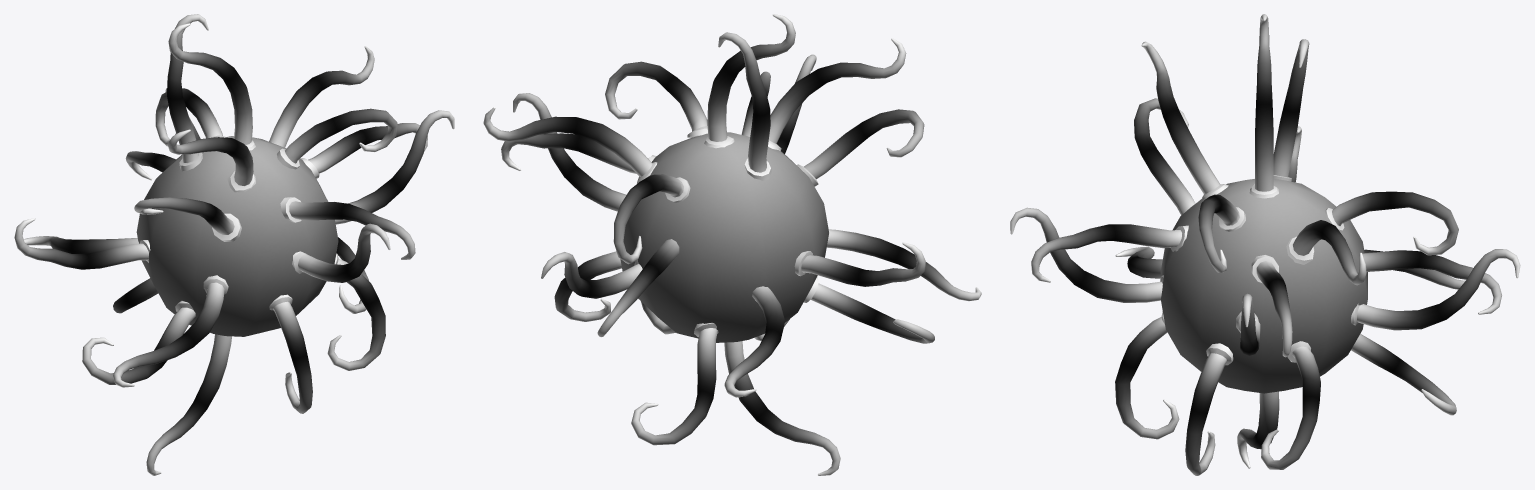
Rendered from NerveBall.fbx.
The picture shows the model from 3 angles, left to right: view 1: azimuth 30°, elevation 25°; view 2: azimuth 150°, elevation 25°; view 3: azimuth 270°, elevation 25°; orthographic projection. The views are drawn at different scales.
Parts seen in each view (by area): view 1: NerveBall; view 2: NerveBall; view 3: NerveBall.
Boxes of the visible parts, <box> form: NerveBall: <box>14,14,454,475</box>; NerveBall: <box>483,14,981,475</box>; NerveBall: <box>1010,14,1520,475</box>.
Bounding box in the file's own units: 4.74 × 4.75 × 4.69.
